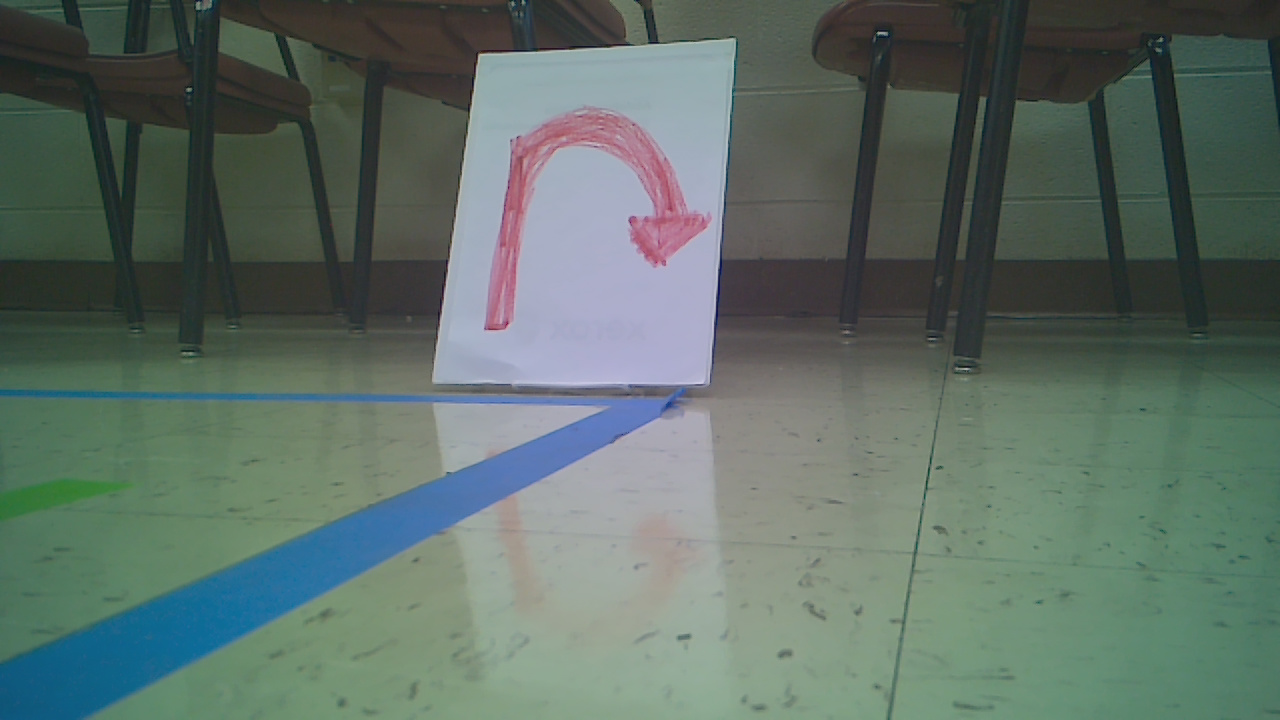uturn: (476, 105, 710, 329)
